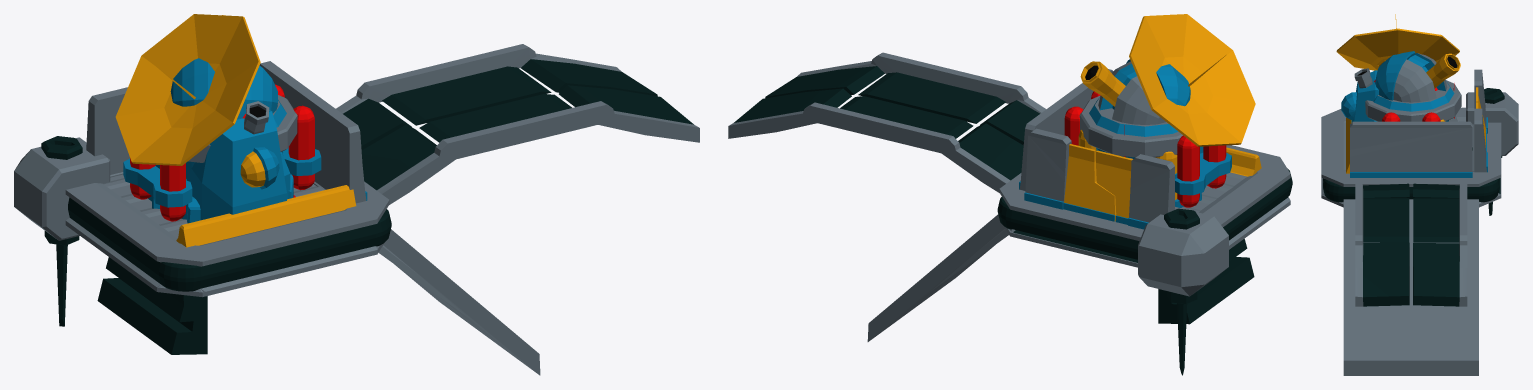
Rendered from LevelPieces.fbx.
3 views of the same model, side by side, from view 1: azimuth 30°, elevation 25°; view 2: azimuth 150°, elevation 25°; view 3: azimuth 270°, elevation 25° (orthographic). The views are drawn at different scales.
Parts seen in each view (by area): view 1: Bridge, Radar, HoleInTheFloor, PumpBuilding, PlatformCornerPiece, UnderPiece, ElexirBuilding, Wall, SmallBarrier, Observatory, Stair_middle, THREEsideFrame (+6 smaller); view 2: Bridge, Radar, HoleInTheFloor, Observatory, PlatformCornerPiece, Gate11, ElexirBuilding, Stair_middle, Gate4, UnderPiece, Gate1, Wall (+5 smaller); view 3: Bridge, Stair_middle, Wall, Observatory, HoleInTheFloor, Radar, Stair_1, Stair_2, PlatformCornerPiece, PumpBuilding, Gate11, FourSideFrame (+2 smaller).
Part boxes in pixels (<box>): Bridge: <box>336,44,699,204</box>; Radar: <box>115,14,295,199</box>; HoleInTheFloor: <box>65,181,389,297</box>; PumpBuilding: <box>186,101,286,220</box>; PlatformCornerPiece: <box>14,136,110,326</box>; UnderPiece: <box>97,257,207,354</box>; ElexirBuilding: <box>123,84,321,221</box>; Wall: <box>259,61,367,203</box>; SmallBarrier: <box>176,185,356,247</box>; Observatory: <box>152,15,297,223</box>; Stair_middle: <box>383,229,540,375</box>; THREEsideFrame: <box>96,181,387,291</box>; Bridge: <box>728,52,1046,192</box>; Radar: <box>1124,14,1255,157</box>; HoleInTheFloor: <box>999,145,1290,267</box>; Observatory: <box>1079,59,1205,201</box>; PlatformCornerPiece: <box>1138,207,1228,375</box>; Gate11: <box>1024,128,1174,229</box>; ElexirBuilding: <box>1064,91,1231,207</box>; Stair_middle: <box>867,214,1004,341</box>; Gate4: <box>1063,144,1116,221</box>; UnderPiece: <box>1158,239,1254,324</box>; Gate1: <box>1096,150,1132,224</box>; Wall: <box>1019,69,1113,190</box>; Bridge: <box>1355,183,1467,306</box>; Stair_middle: <box>1343,199,1478,375</box>; Wall: <box>1350,121,1472,177</box>; Observatory: <box>1365,51,1461,121</box>; HoleInTheFloor: <box>1321,107,1501,207</box>; Radar: <box>1336,14,1459,121</box>; Stair_1: <box>1411,242,1466,373</box>; Stair_2: <box>1356,242,1411,372</box>; PlatformCornerPiece: <box>1466,88,1518,215</box>; PumpBuilding: <box>1341,68,1457,122</box>; Gate11: <box>1474,69,1487,172</box>; FourSideFrame: <box>1322,122,1500,202</box>.
Size of what is drawn, in the model's own units: 32.83 by 21.42 by 14.56.
